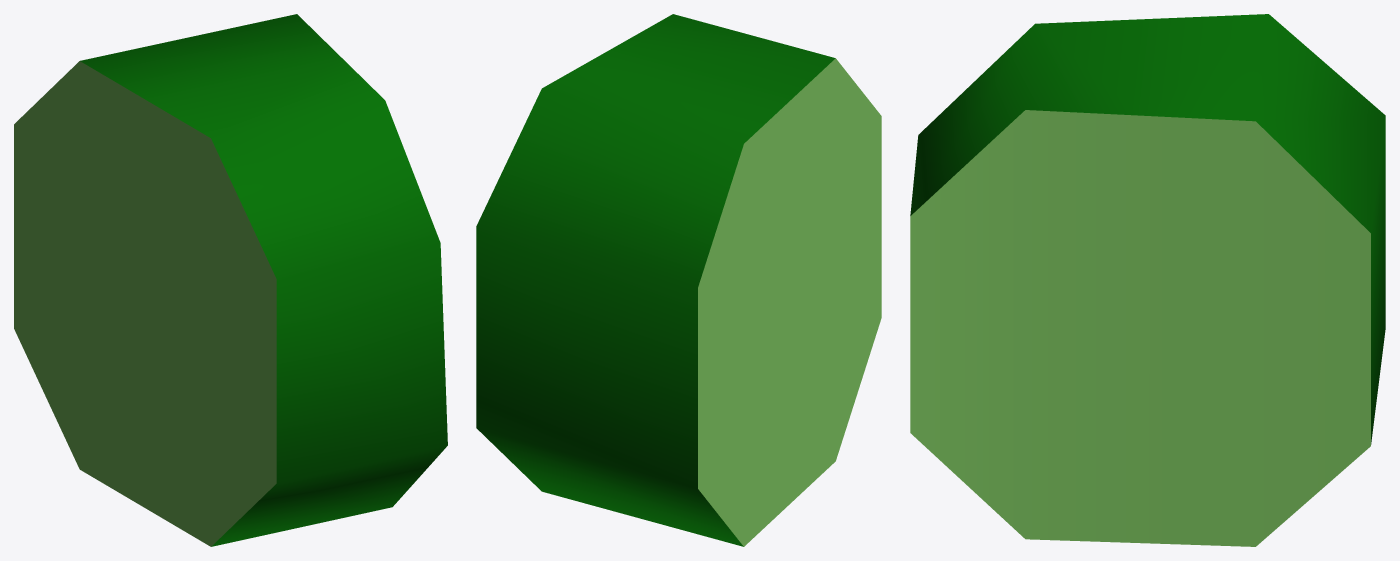
Rendered from mesh_CucumberSlice_Stage08.fbx.
The picture shows the model from 3 angles, left to right: view 1: azimuth 30°, elevation 25°; view 2: azimuth 150°, elevation 25°; view 3: azimuth 270°, elevation 25°; orthographic projection. The views are drawn at different scales.
Parts seen in each view (by area): view 1: mesh_CucumberSlice_Stage08; view 2: mesh_CucumberSlice_Stage08; view 3: mesh_CucumberSlice_Stage08.
Boxes of the visible parts, x1=… form: mesh_CucumberSlice_Stage08: x1=14, y1=14, x2=447, y2=546; mesh_CucumberSlice_Stage08: x1=476, y1=14, x2=881, y2=546; mesh_CucumberSlice_Stage08: x1=910, y1=14, x2=1385, y2=546.
Size of the model in its own units: 0.0218 by 0.0367 by 0.0371.
